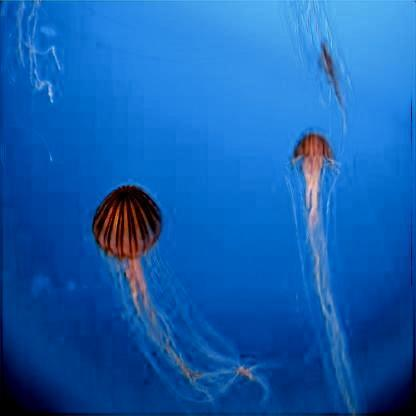Moon: (94, 186, 173, 358), (291, 131, 342, 379)
